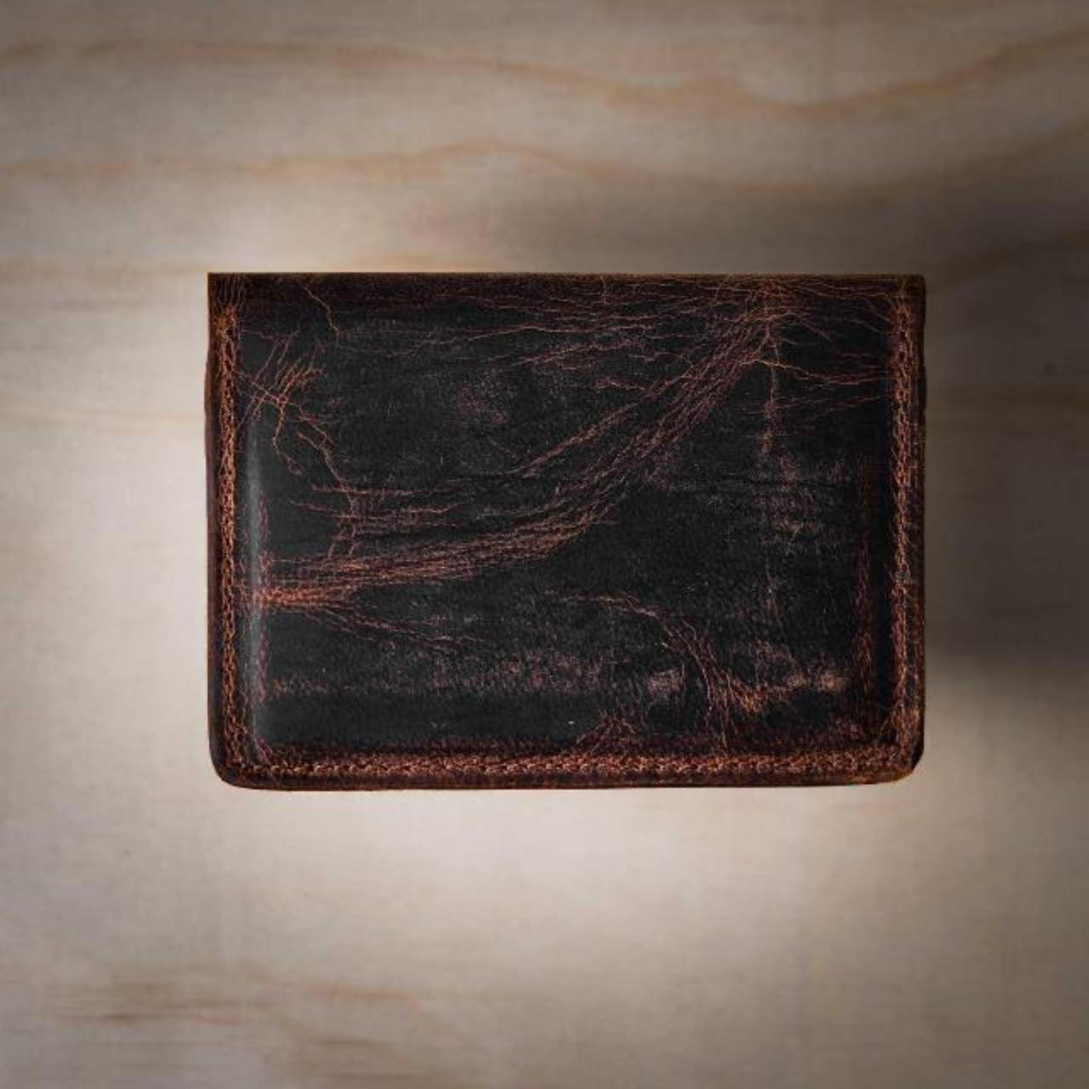wallet: (151, 220, 984, 832)
